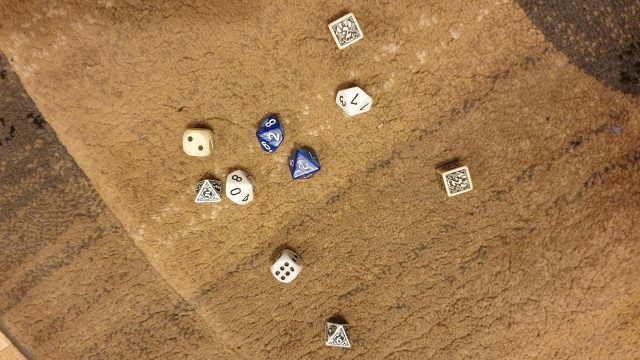d10-10: (223, 166, 262, 209)
d10-2: (250, 111, 287, 158), (285, 148, 323, 183)
d10-7: (333, 82, 377, 119)
d6-2: (181, 125, 216, 160)
d6-6: (267, 248, 304, 287)
d6p-2: (325, 10, 367, 51), (434, 160, 472, 197)
d8p-5: (189, 178, 223, 206)
d8p-6: (323, 316, 355, 353)
